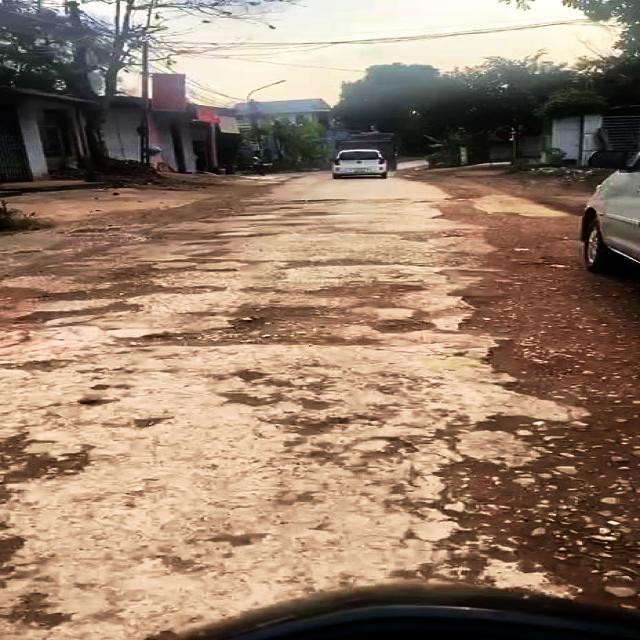pothole: (420, 405, 640, 613), (11, 278, 229, 328), (115, 305, 376, 346), (478, 336, 574, 400), (0, 425, 91, 482), (2, 586, 60, 636), (449, 288, 512, 332), (305, 281, 421, 299), (3, 355, 83, 375), (367, 314, 440, 334), (281, 256, 385, 270)
